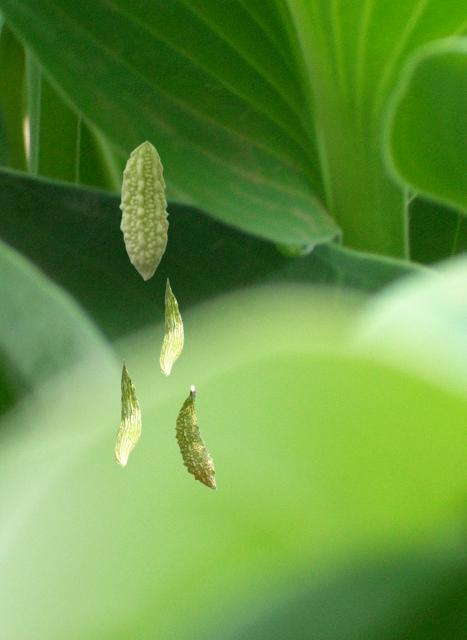ampalaya: (118, 140, 169, 281), (173, 384, 217, 490), (113, 358, 142, 468), (158, 277, 184, 377)
